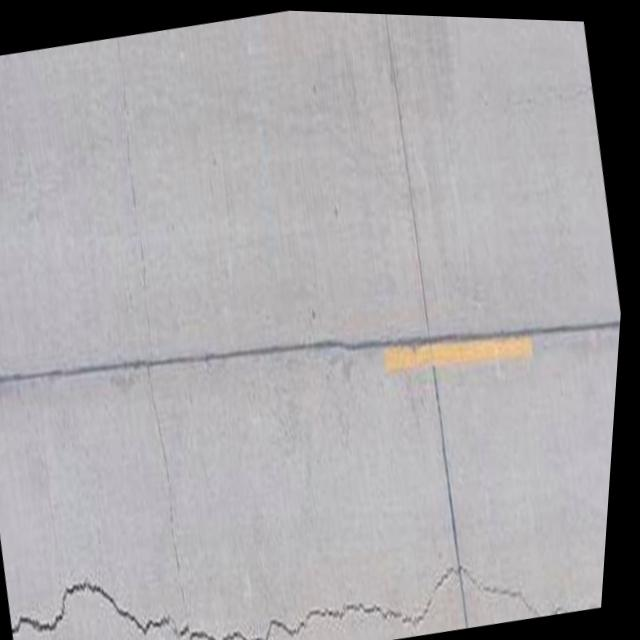Crack: (12, 494, 549, 640)
